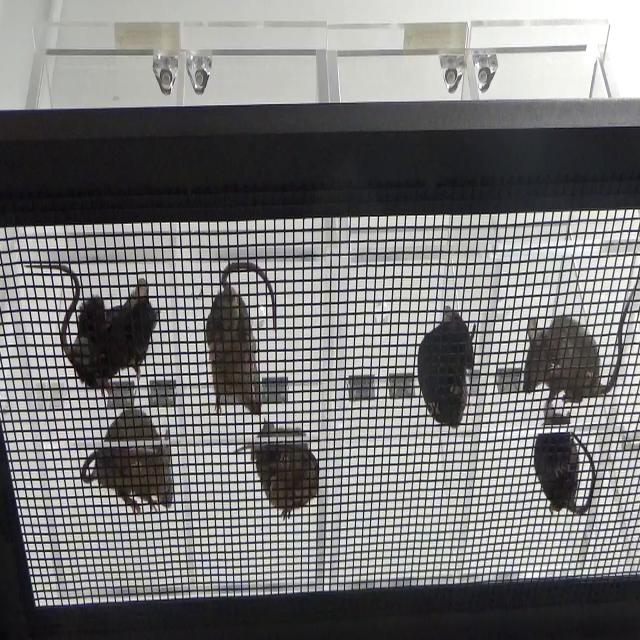lick tail: (410, 299, 487, 442)
scratch: (22, 252, 162, 398)
